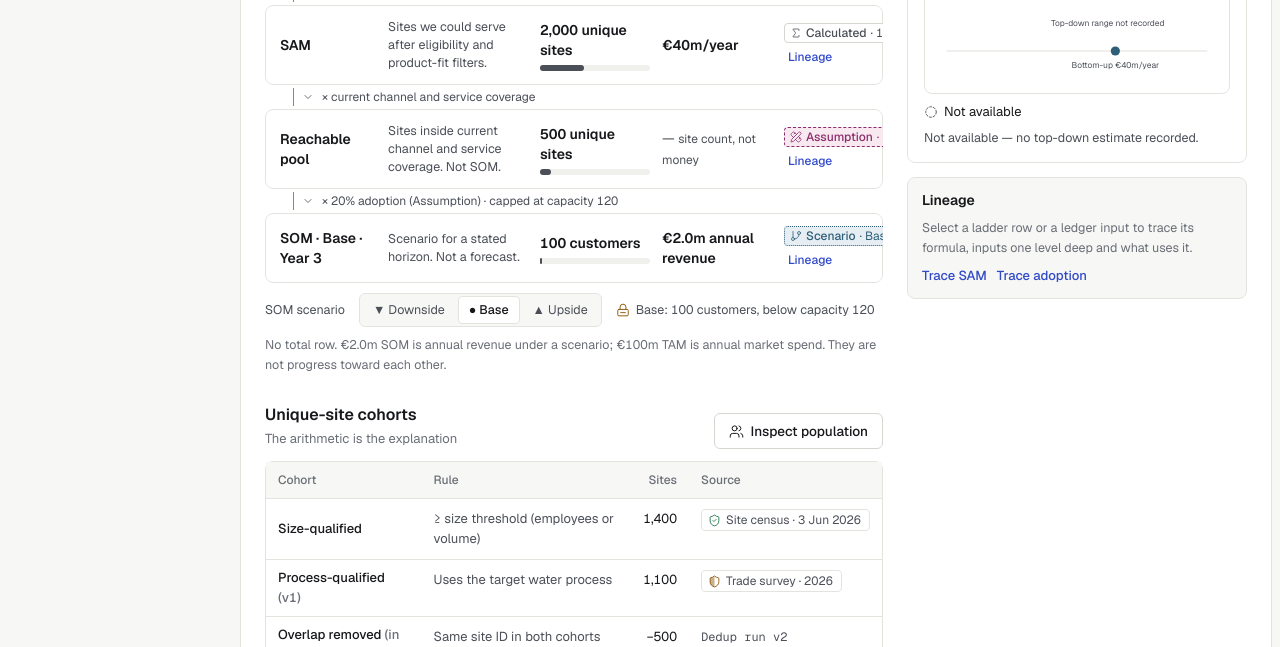
Test: S06 Sizing › switches the SOM scenario and shows the capacity cap for Upside
(page scrolled)
Click the button "▲ Upside": (560, 310) [522,296,599,324]
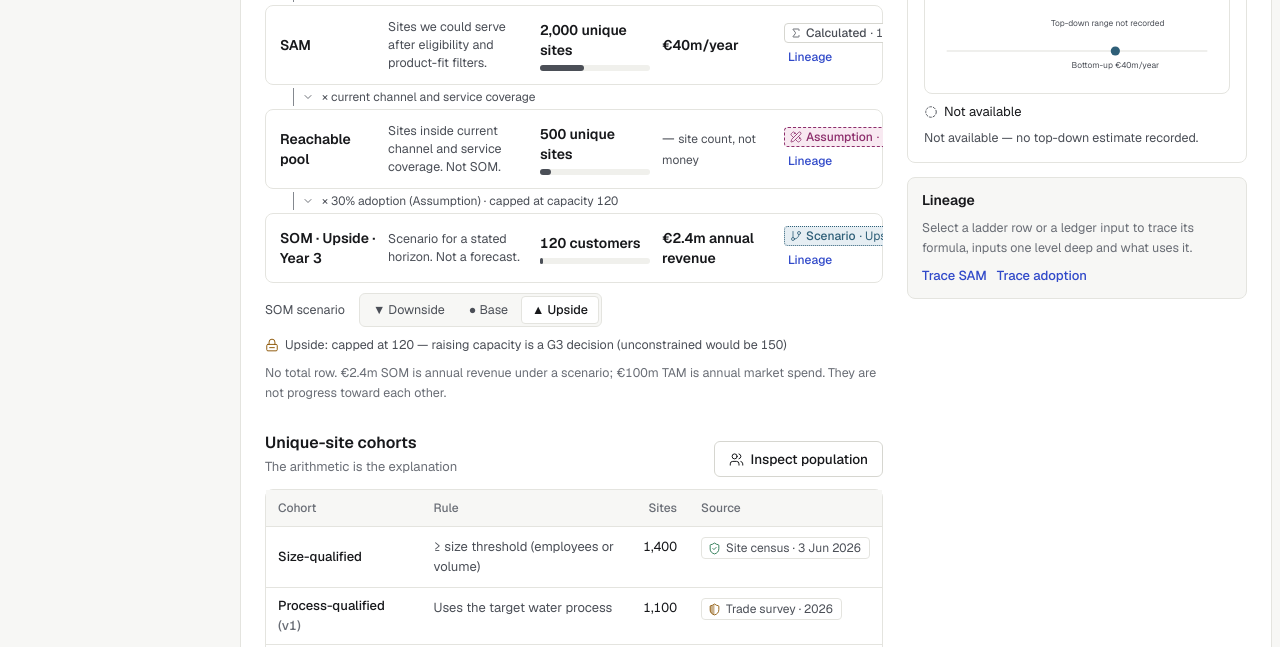
Now the element "SOM · Upside · Year 3" shows "120 customers", box [540,234,640,252]
Now the element "SOM · Upside · Year 3" shows "€2.4m annual revenue", box [662,229,754,267]
Now the text "capped at 120" is shown, box [285,336,787,353]
